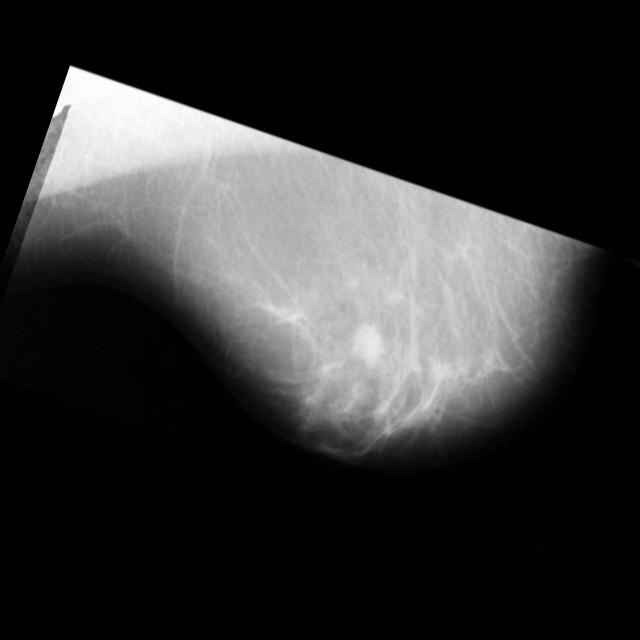CIRC: (343, 319, 395, 372)
